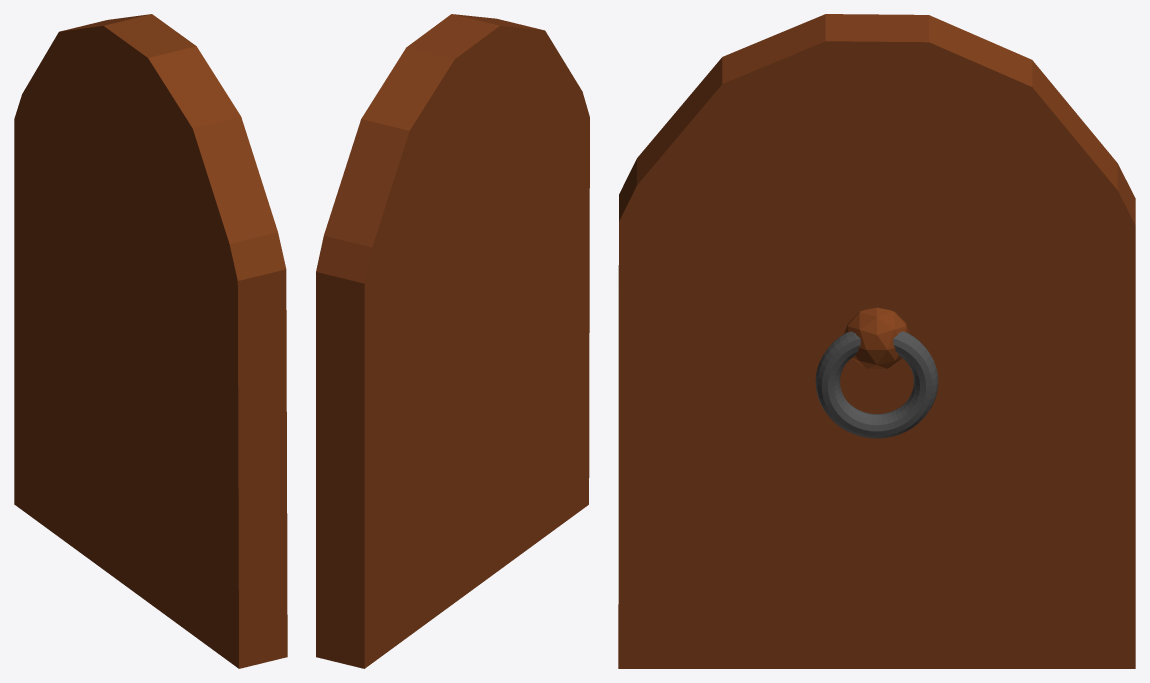
Rendered from LevelDoor.fbx.
3 renders of one model, left to right at view 1: azimuth 30°, elevation 25°; view 2: azimuth 150°, elevation 25°; view 3: azimuth 270°, elevation 25°, orthographic. The views are drawn at different scales.
Parts seen in each view (by area): view 1: Door; view 2: Door; view 3: Door.
Boxes of the visible parts, box(x1,y1,x2,y2) form: Door: box(14, 14, 287, 668); Door: box(316, 14, 589, 668); Door: box(618, 14, 1135, 668).
Size of the model in its own units: 54.94 by 402 by 300.
